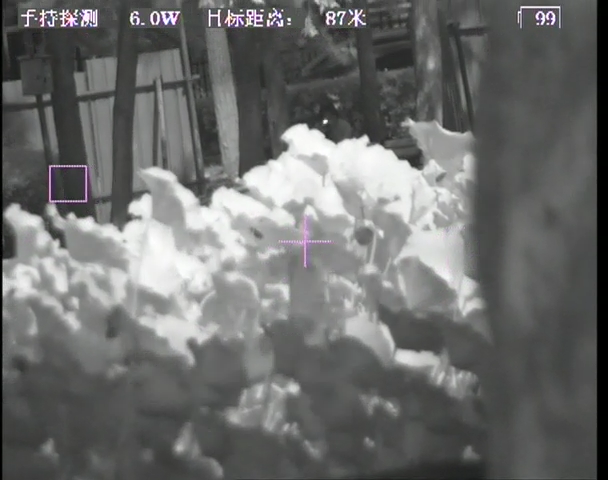my: (321, 117, 331, 127)
